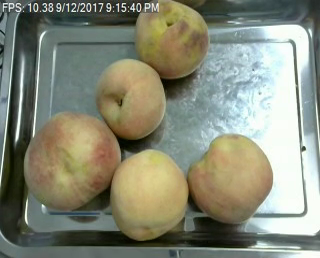Peach: (23, 109, 121, 212), (188, 131, 274, 223), (109, 148, 188, 240), (95, 56, 166, 140), (134, 1, 208, 79)
